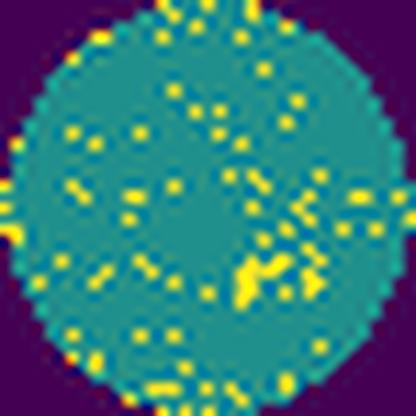Loc: (235, 255, 295, 310)
